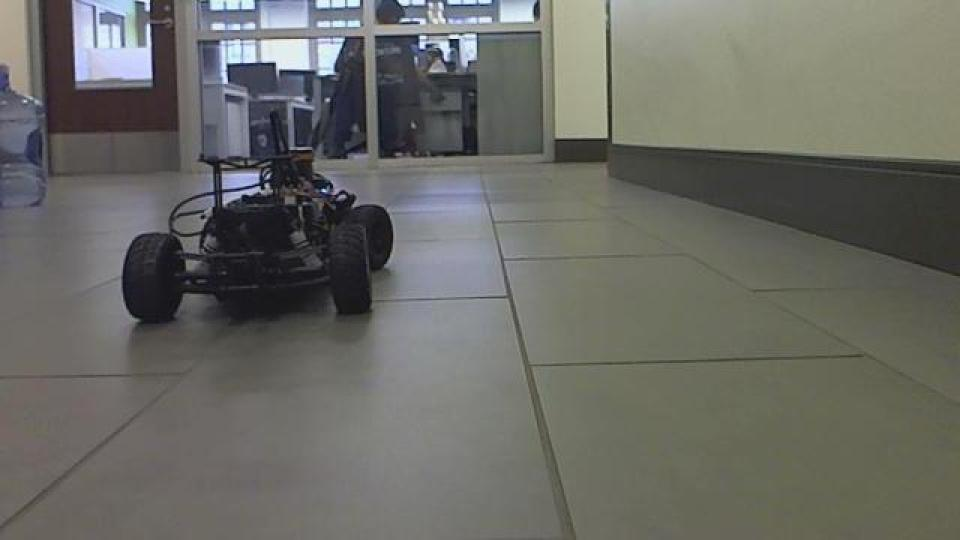car: (117, 110, 396, 326)
